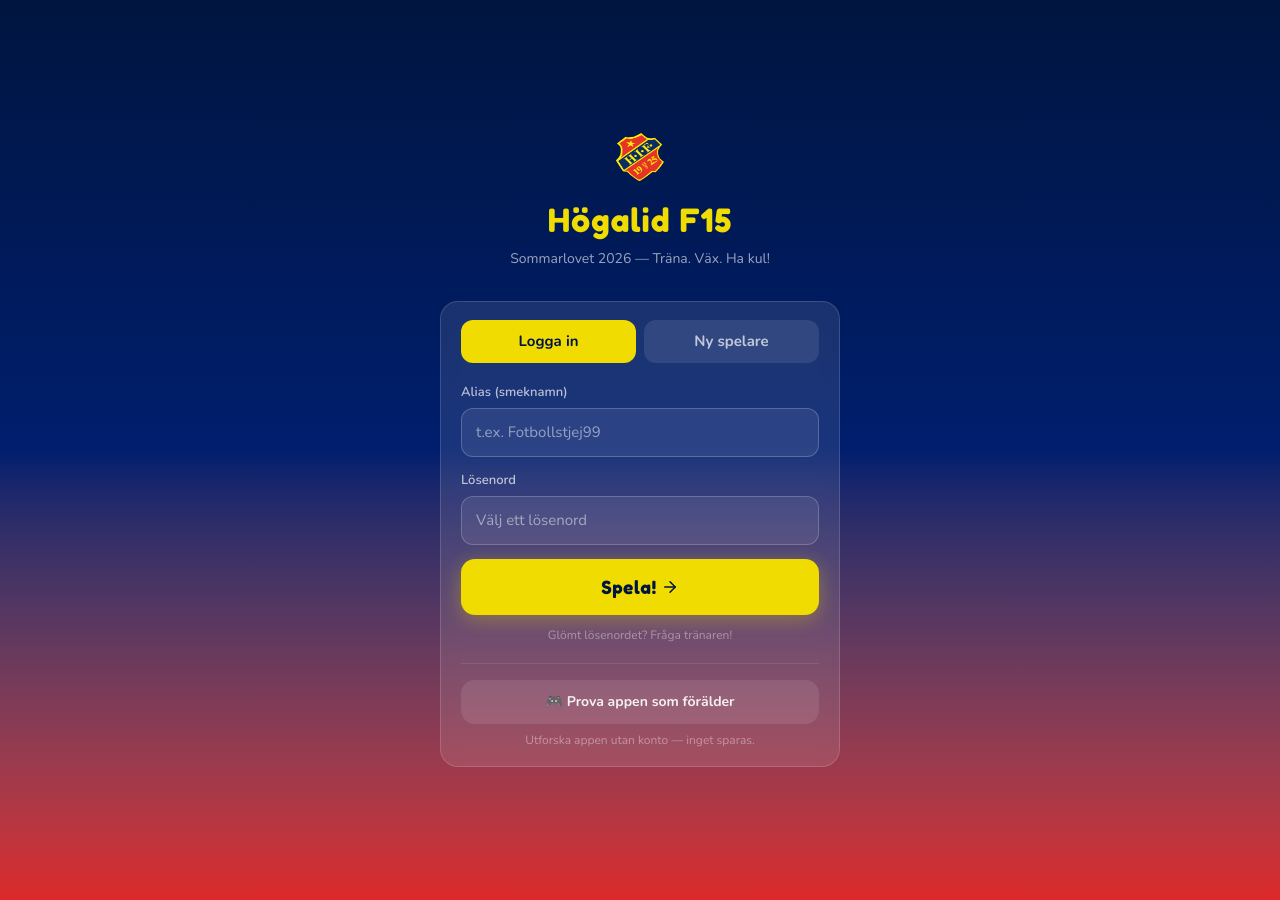
Test: LoginPage › requires an invite before registering
The width and height of the screenshot is (1280, 900).
Click the button "Ny spelare" at (732, 342), box x1=644 y1=320 x2=819 y2=363
(page scrolled)
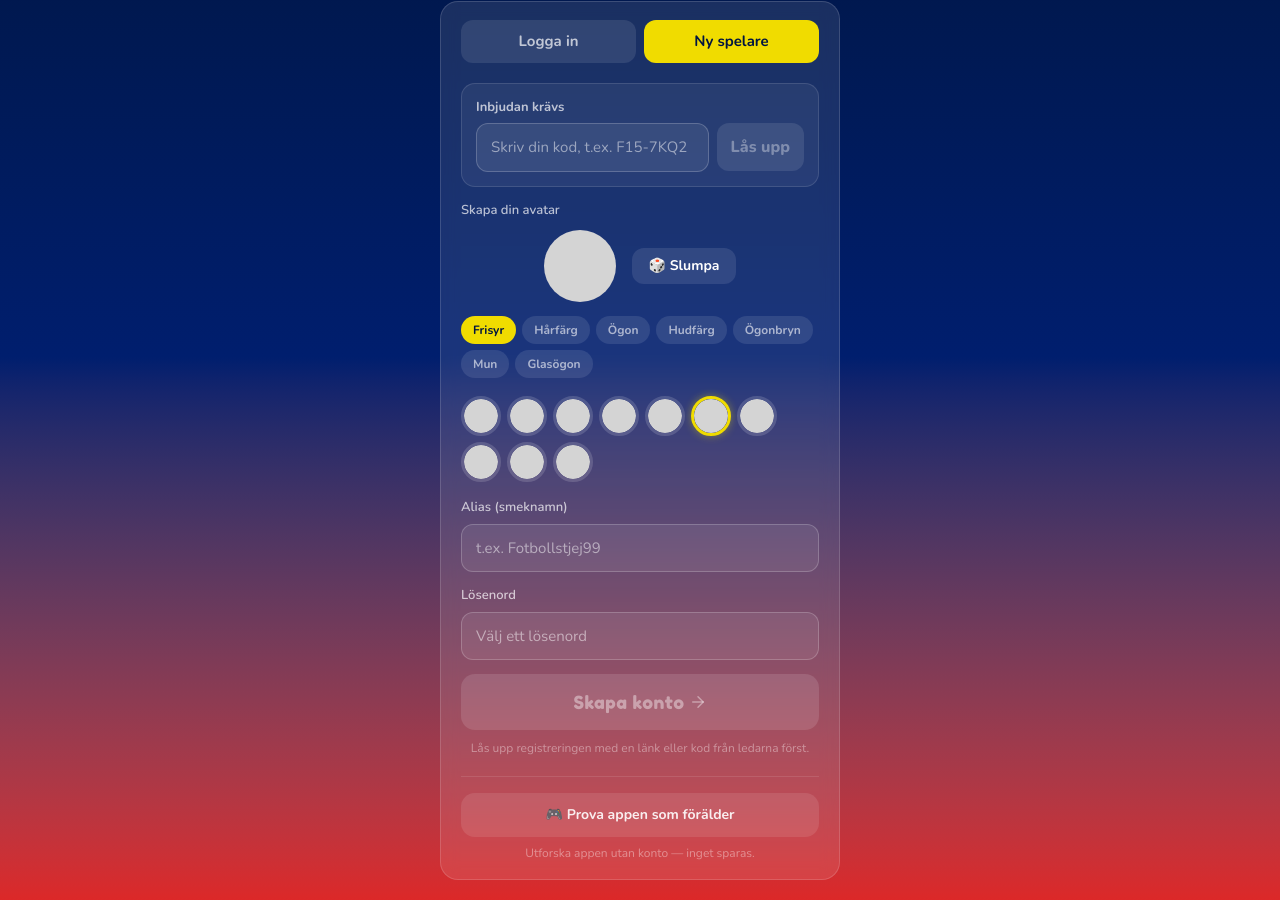
Check: the text "Inbjudan krävs" is shown, box x1=476 y1=98 x2=564 y2=116
Check: the button "Skapa konto" is disabled, box x1=461 y1=674 x2=819 y2=730
